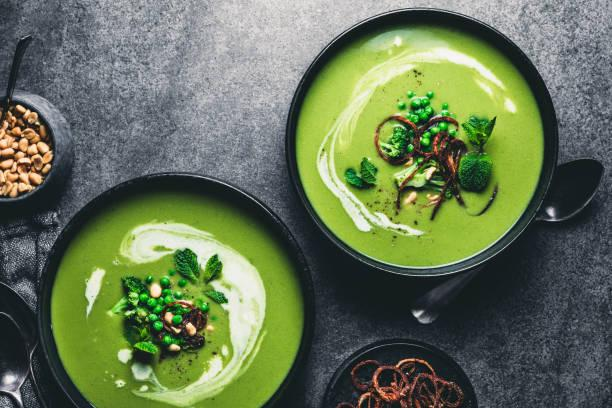Braised Crucian Carp: (287, 8, 560, 291), (36, 173, 311, 408)
